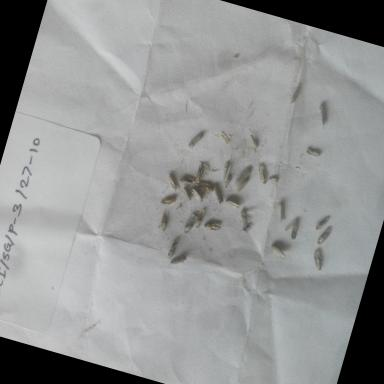pbw: (219, 194, 244, 218), (233, 162, 254, 190), (190, 160, 208, 190), (313, 102, 333, 128), (252, 162, 272, 188), (182, 211, 200, 238), (186, 128, 206, 152), (315, 224, 334, 249), (218, 160, 236, 186), (163, 172, 182, 196), (268, 242, 290, 262), (165, 236, 181, 263), (244, 134, 262, 158), (309, 248, 327, 272), (167, 250, 188, 270), (201, 218, 224, 236), (156, 210, 173, 234), (194, 179, 216, 197), (210, 184, 228, 206), (177, 172, 198, 190), (220, 170, 237, 192), (234, 174, 250, 197), (287, 218, 302, 242), (158, 192, 178, 210), (288, 83, 302, 108), (194, 206, 207, 232), (274, 200, 288, 224), (283, 214, 299, 234), (188, 188, 206, 204), (180, 186, 196, 204), (304, 146, 323, 160), (265, 173, 282, 187)
